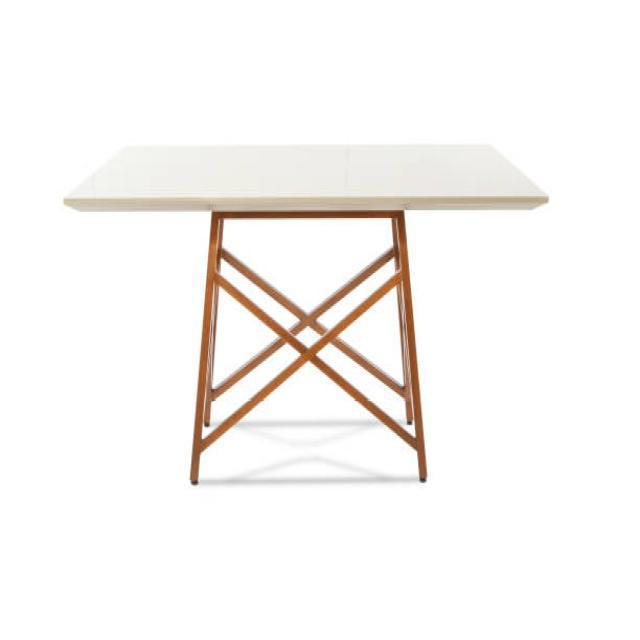table: (62, 141, 550, 486)
